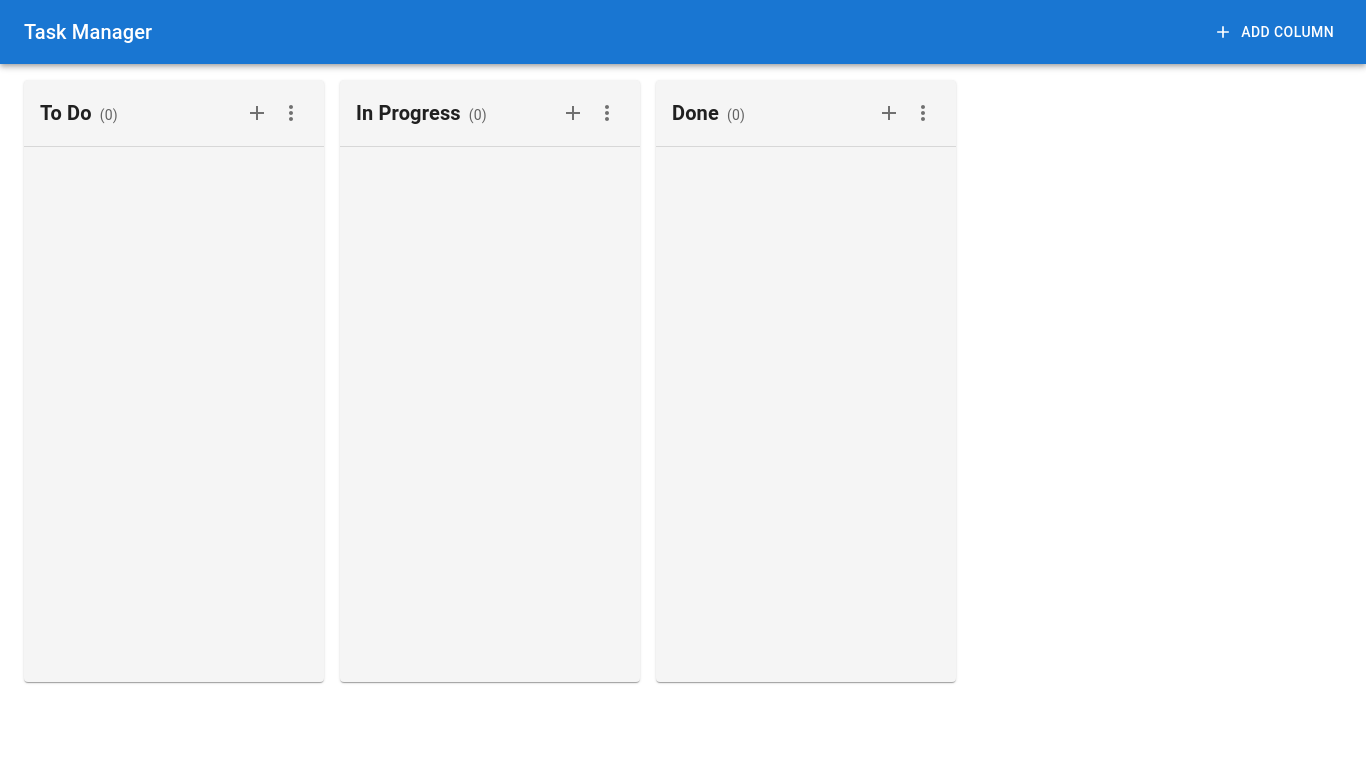
Scenario: TaskBoard › should open task dialog when add task button is clicked
This screenshot has width=1366, height=768.
Click the button with test id "add-task-btn-todo" at {"x": 257, "y": 113}, box [240,96,274,130]
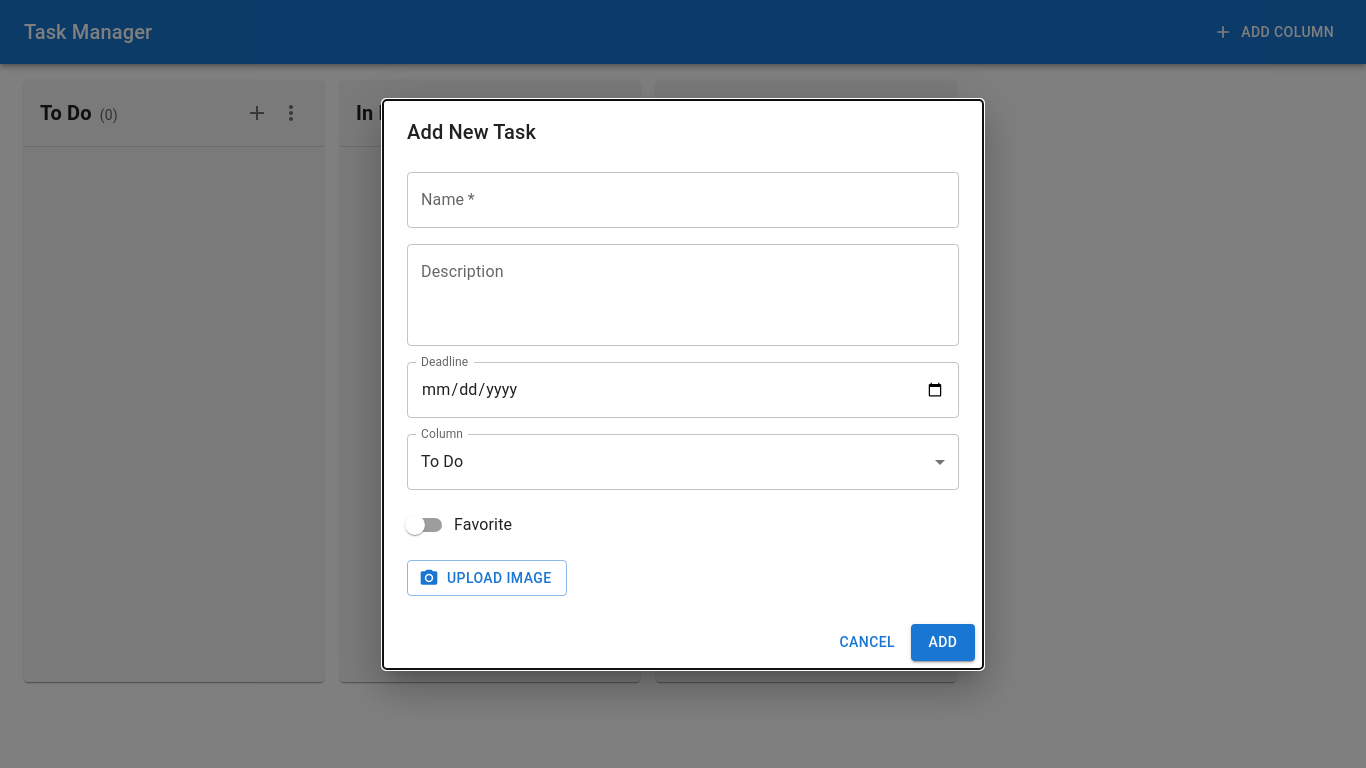
Check: the heading "Add New Task" is shown, box [407,120,536,144]
